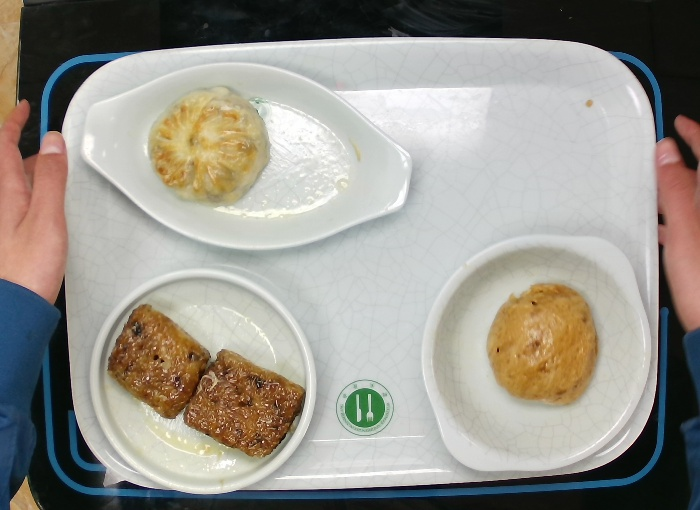JYsf-Shuang_Er_Wan: (416, 228, 655, 478)
JYsf-Xiao_Yuan_Pan: (84, 264, 322, 498)
JYsf-Yu_Pan: (74, 57, 414, 256)
